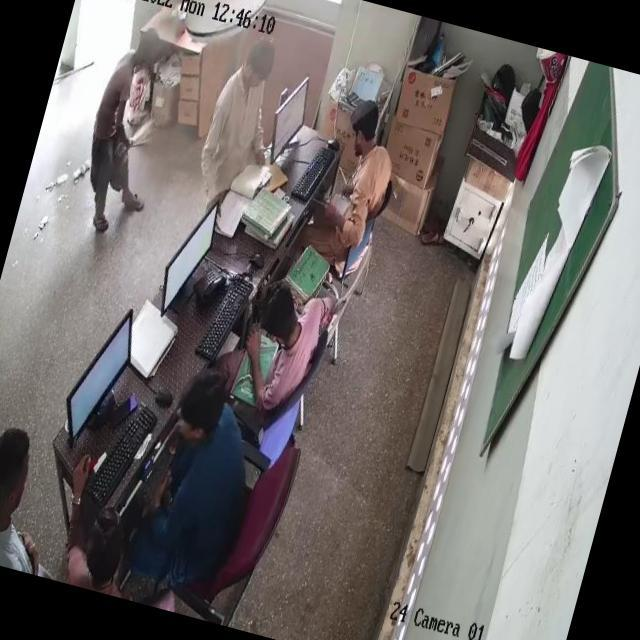person: (138, 363, 258, 561), (70, 44, 154, 238), (316, 87, 406, 248), (44, 468, 149, 598), (200, 32, 280, 184), (237, 277, 328, 408), (0, 430, 60, 572)
